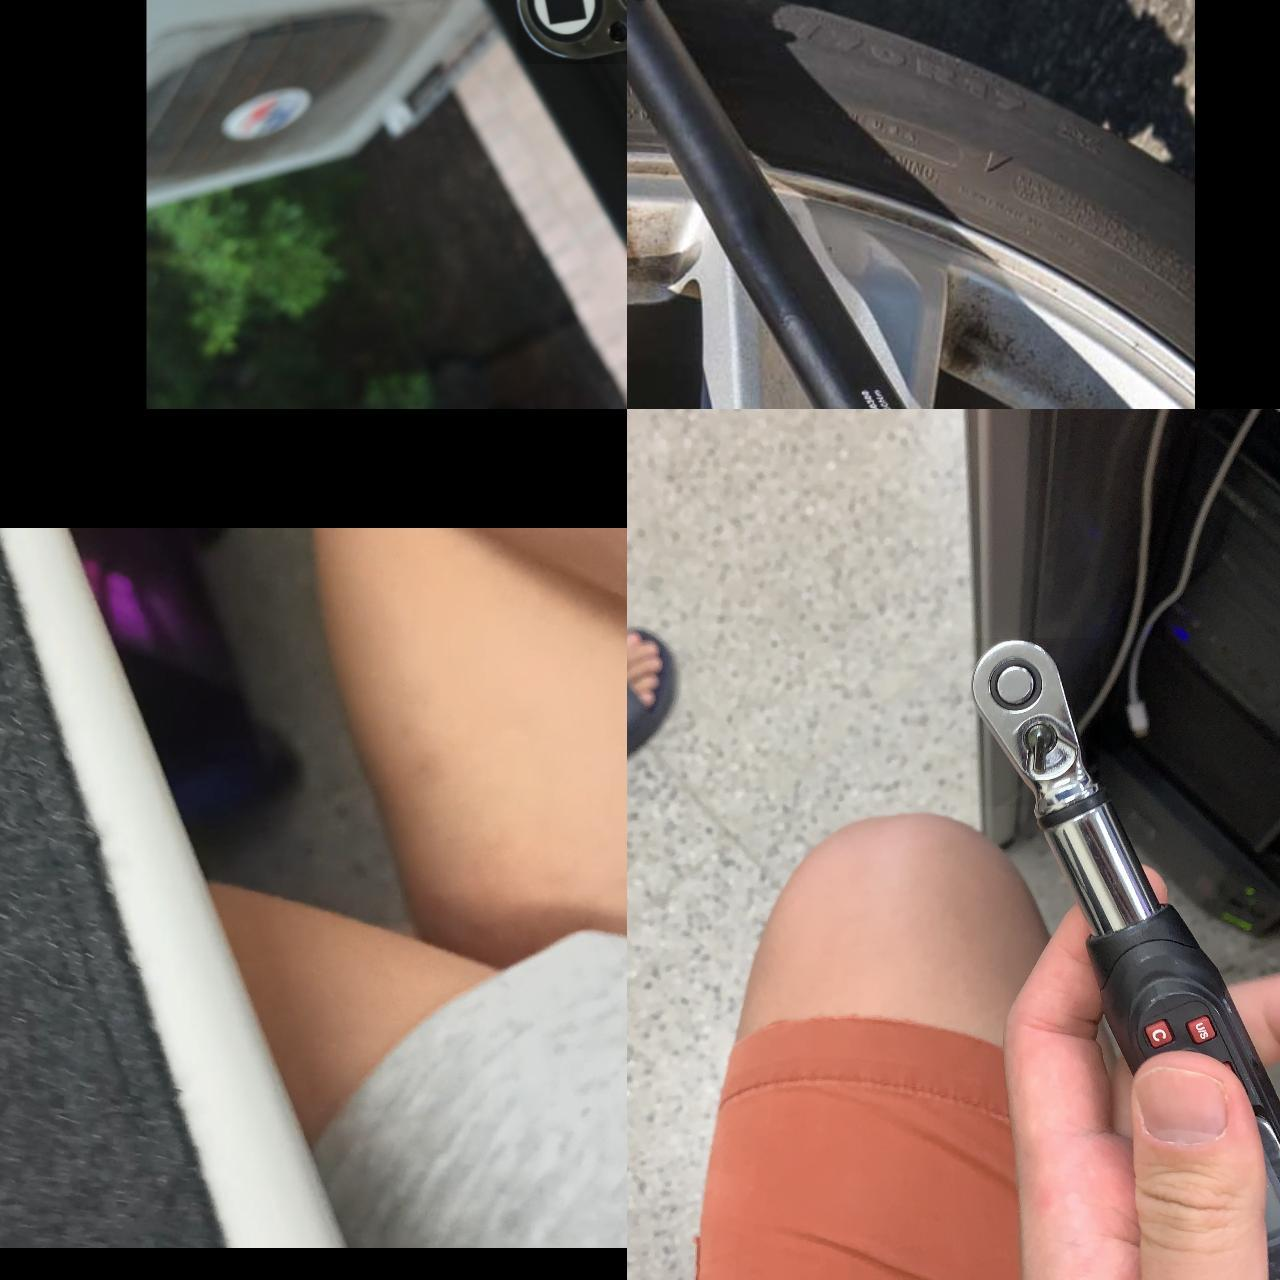Tool: (969, 638, 1099, 806)
